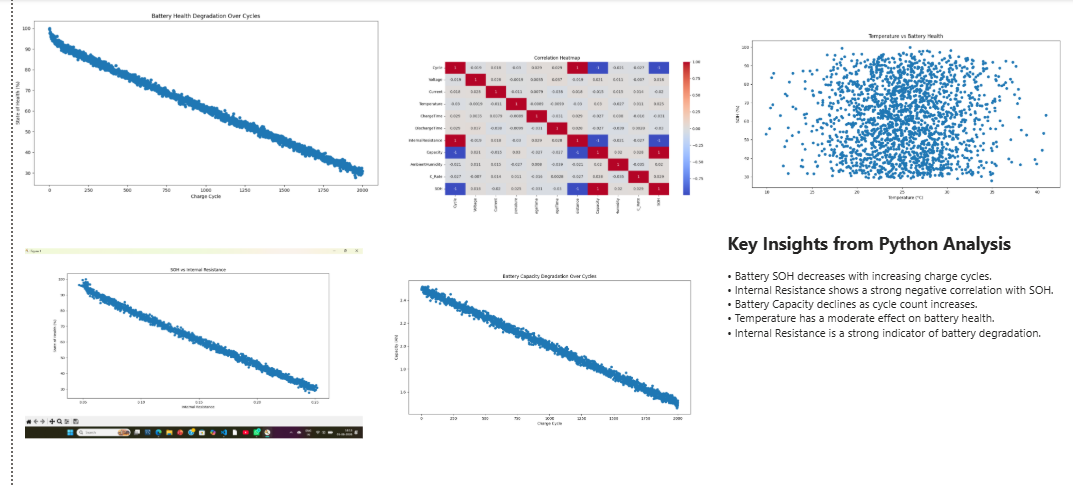

The page's visual inventory and layout, read from the dashboard file:
{"tool":"powerbi","page":{"name":"Python insights","canvas":[1280,720],"ordinal":2},"visuals":[{"type":"image","box":[10,0,280,280],"z":0},{"type":"image","box":[359.7,0,280.6,279.2],"z":1},{"type":"image","box":[10,290,280,280],"z":2},{"type":"image","box":[371.8,288.5,302.6,280.8],"z":3},{"type":"image","box":[741,343.6,279.5,150],"z":4},{"type":"textbox","box":[684.5,0,281,279],"z":5}]}

Visuals, with their boxes on the page's 1280x720 design canvas (x1, y1, x2, y2). These are canvas units, not pixel positions in the 1073x486 screenshot, which may show the page scaled, cropped or inside an application window:
image: 10,0,290,280
image: 360,0,640,279
image: 10,290,290,570
image: 372,288,674,569
image: 741,344,1020,494
textbox: 684,0,966,279
